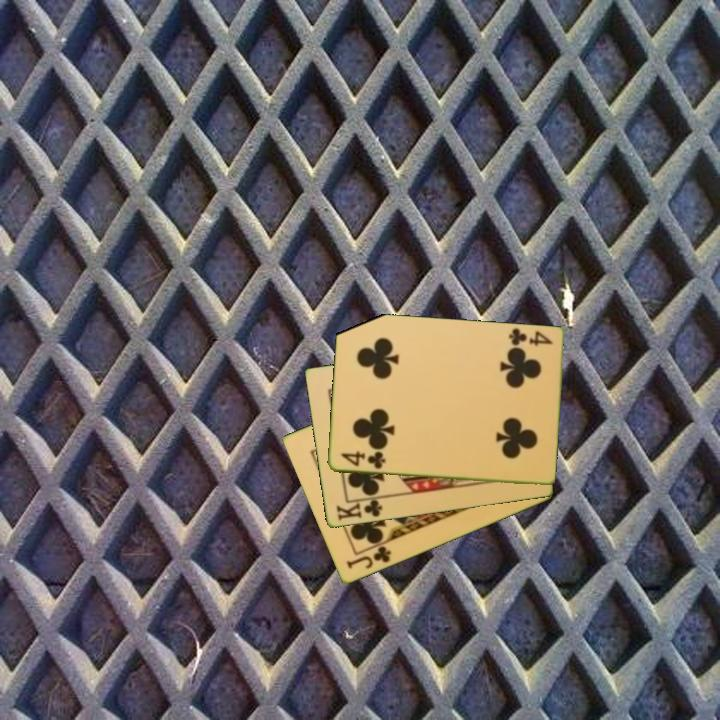4c: (337, 448, 388, 472), (505, 325, 555, 349)
Jc: (343, 543, 394, 572)
Kc: (332, 494, 386, 524)
